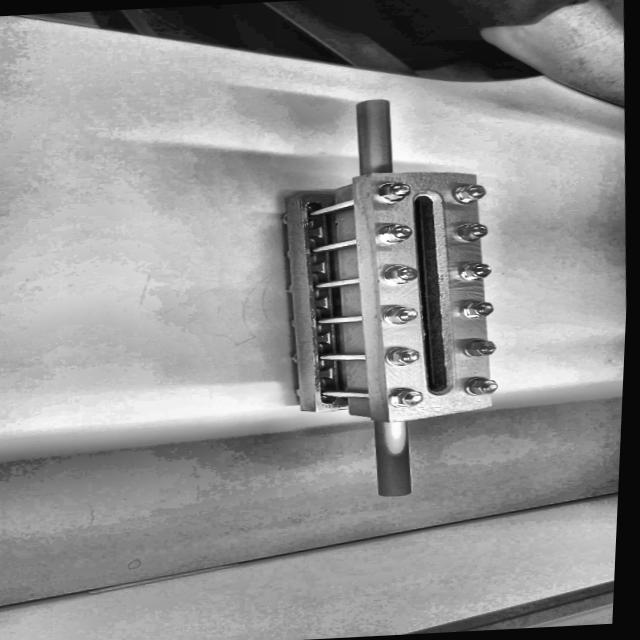ShuiWeiQi_12: (249, 88, 564, 526)
